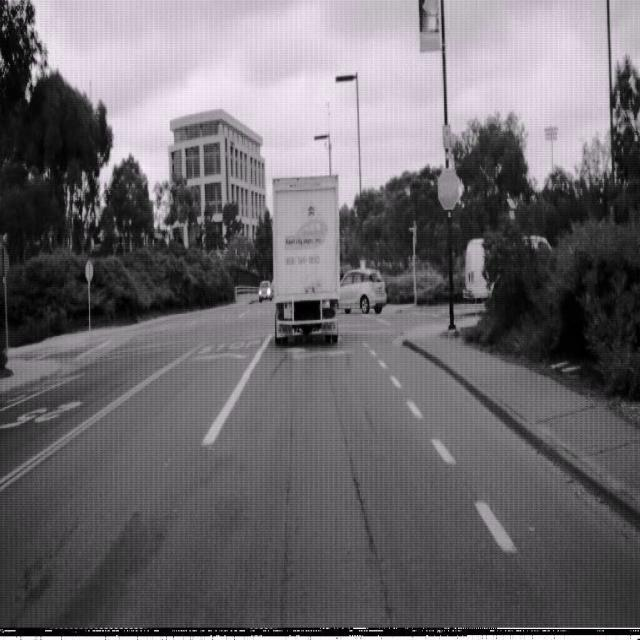stop_sign: (437, 167, 459, 211)
